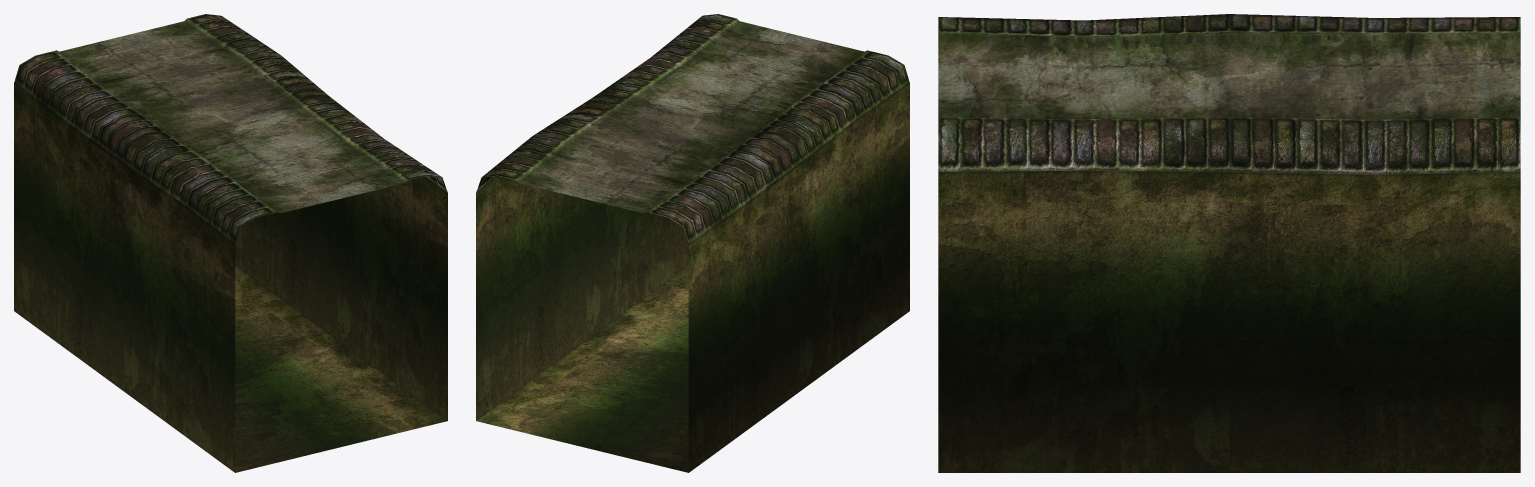
Rendered from floor.DAE.
The picture shows the model from 3 angles, left to right: view 1: azimuth 30°, elevation 25°; view 2: azimuth 150°, elevation 25°; view 3: azimuth 270°, elevation 25°; orthographic projection. The views are drawn at different scales.
Visible parts, largest first — view 1: floor; view 2: floor; view 3: floor.
Part boxes in pixels (x1,y1,x2,y2): floor: [14, 14, 447, 472]; floor: [476, 14, 909, 472]; floor: [938, 14, 1520, 472].
Bounding box in the file's own units: 2.29 × 4 × 2.52.
